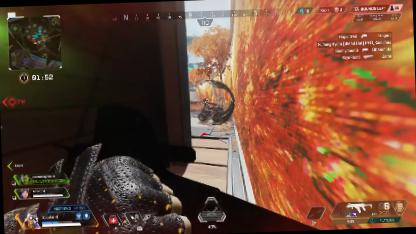Target: (199, 97, 208, 107)
